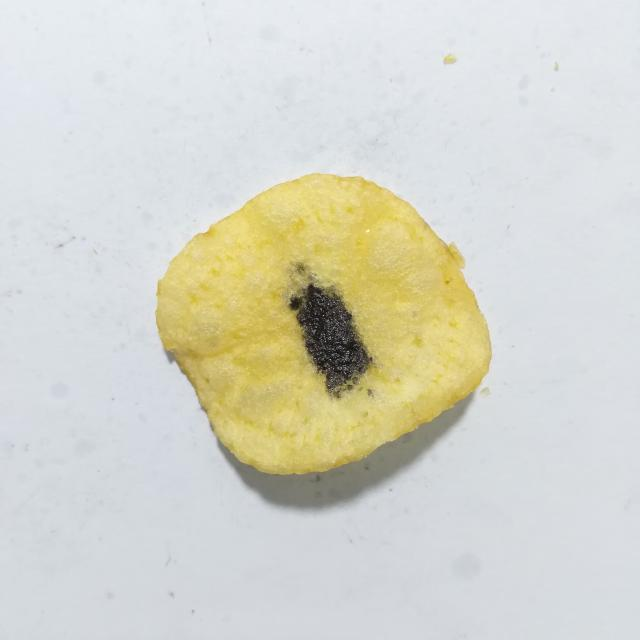chip: (156, 174, 491, 473)
damaged: (290, 282, 372, 396), (367, 389, 374, 397)
semi-damaged: (282, 261, 335, 309)
